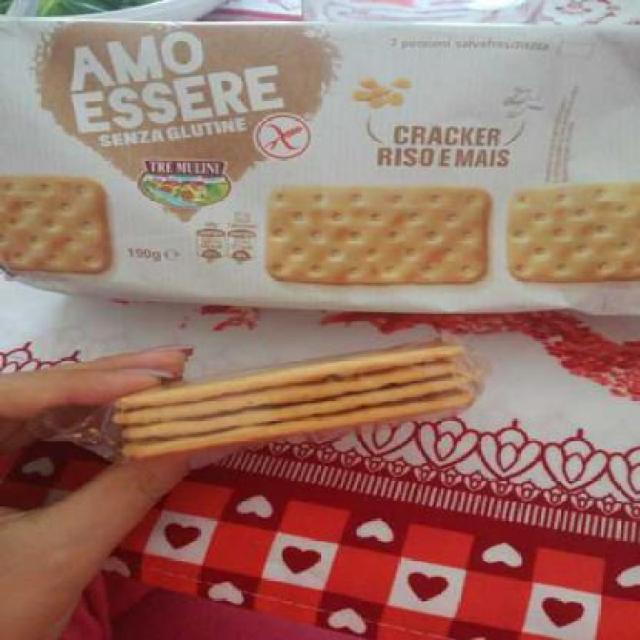Cracker: (1, 7, 638, 318), (56, 338, 516, 476)
